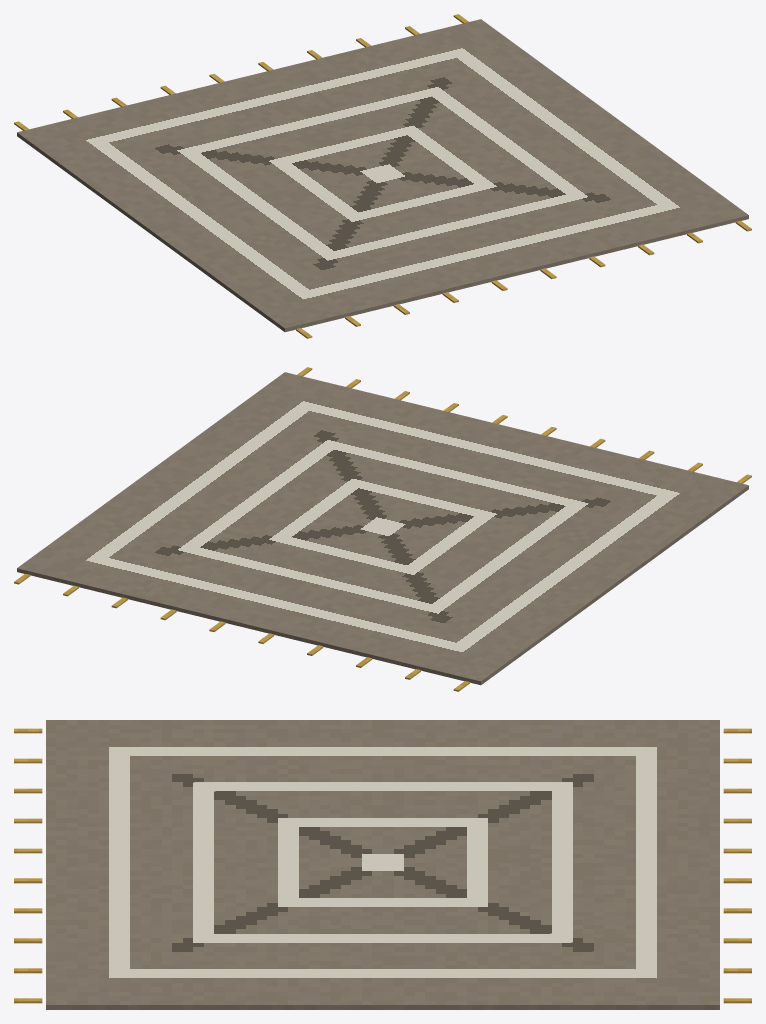
File: rug.glb
The picture shows the model from 3 angles, top to bottom: view 1: azimuth 30°, elevation 25°; view 2: azimuth 150°, elevation 25°; view 3: azimuth 270°, elevation 25°; orthographic projection. The views are drawn at different scales.
Parts seen in each view (by area): view 1: body; view 2: body; view 3: body.
Boxes of the visible parts, x1=… form: body: x1=14, y1=14, x2=751, y2=338; body: x1=14, y1=367, x2=751, y2=691; body: x1=14, y1=720, x2=751, y2=1009.
Size of the model in its own units: 1.9 by 0.015 by 2.08.
Materials: 2 (2 with a texture image).
